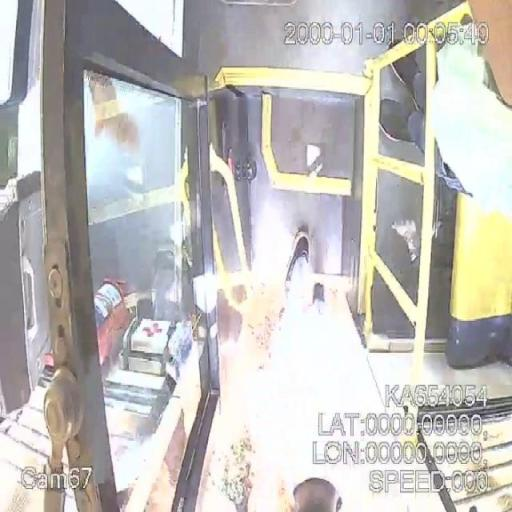persona: (262, 229, 366, 512)
